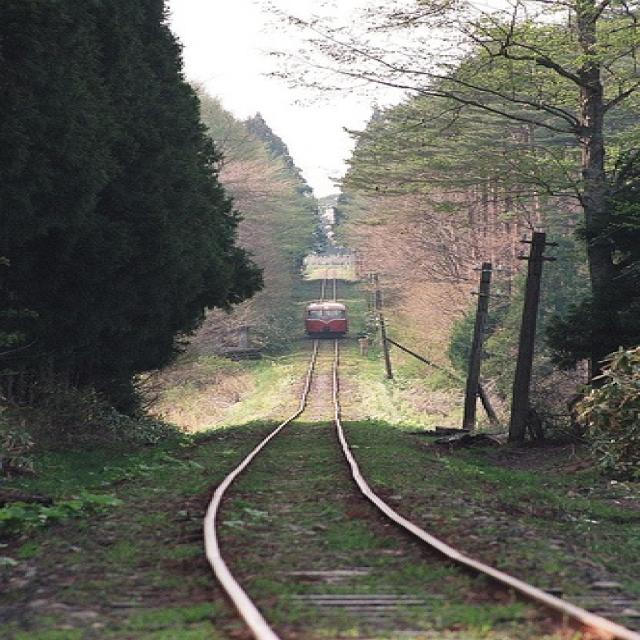train: (301, 298, 349, 339)
